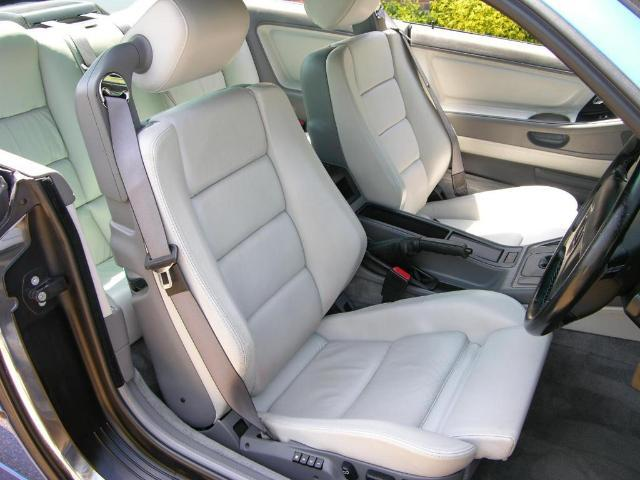Seatbelt: (105, 95, 282, 444), (394, 30, 472, 200)
